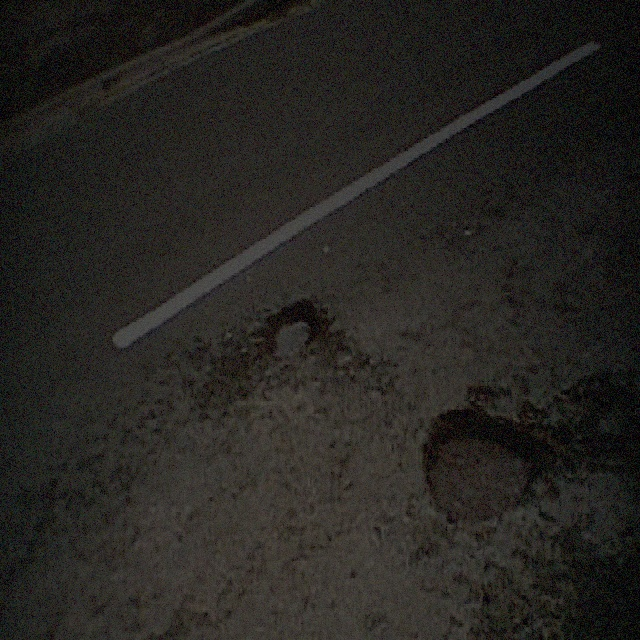pothole: (421, 401, 538, 531), (262, 292, 320, 367)
